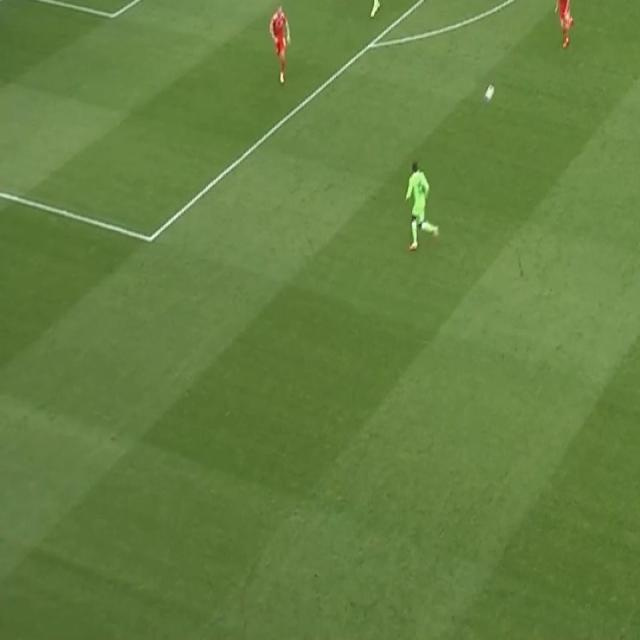ball: (484, 82, 496, 104)
